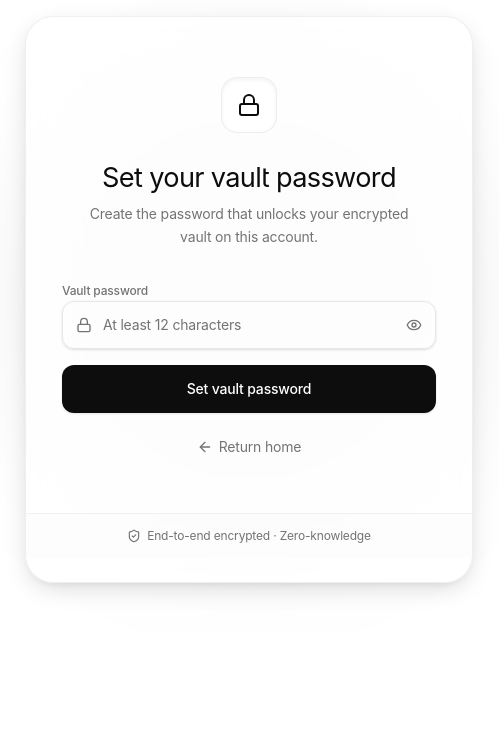
Test: vault password setup › switches to sign-in-again when the server reports SESSION_NOT_FRESH
In the password field labelled "Vault password": (249, 324) [62, 300, 436, 348], type "new-vault-password"
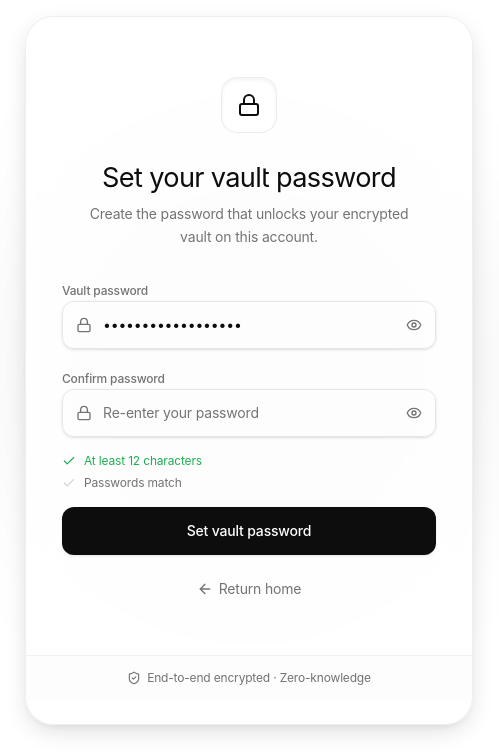
In the password field labelled "Confirm password": (249, 412) [62, 388, 436, 436], type "new-vault-password"
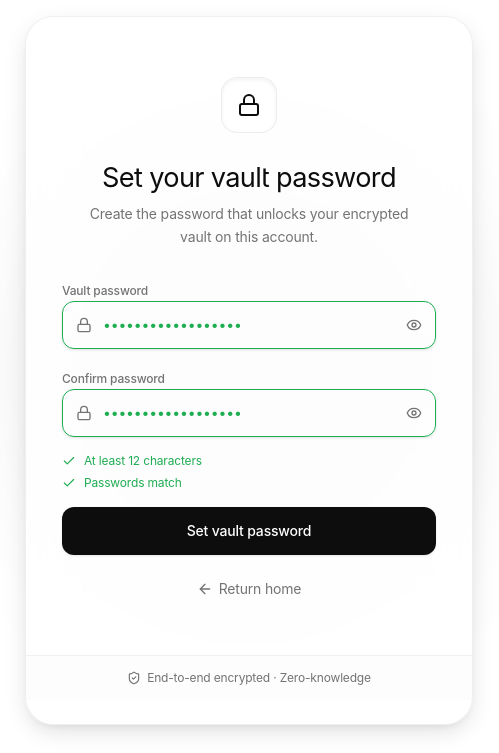
Click the button "Set vault password": (249, 530) [62, 506, 436, 554]
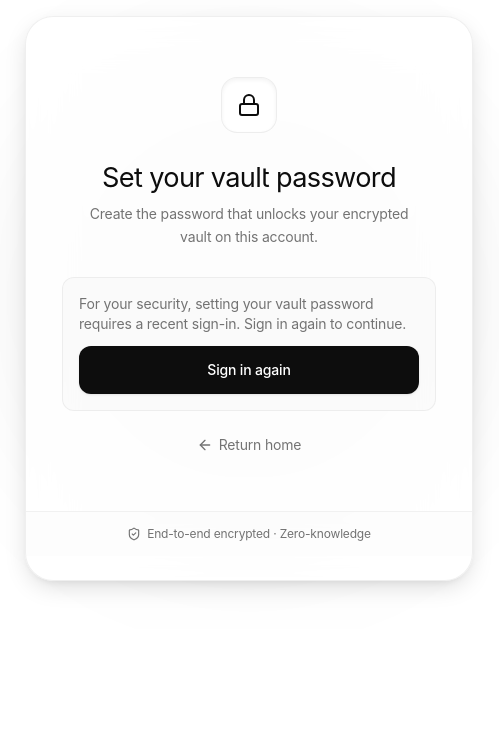
Check: the button "Sign in again" is shown, box [79, 346, 419, 394]
